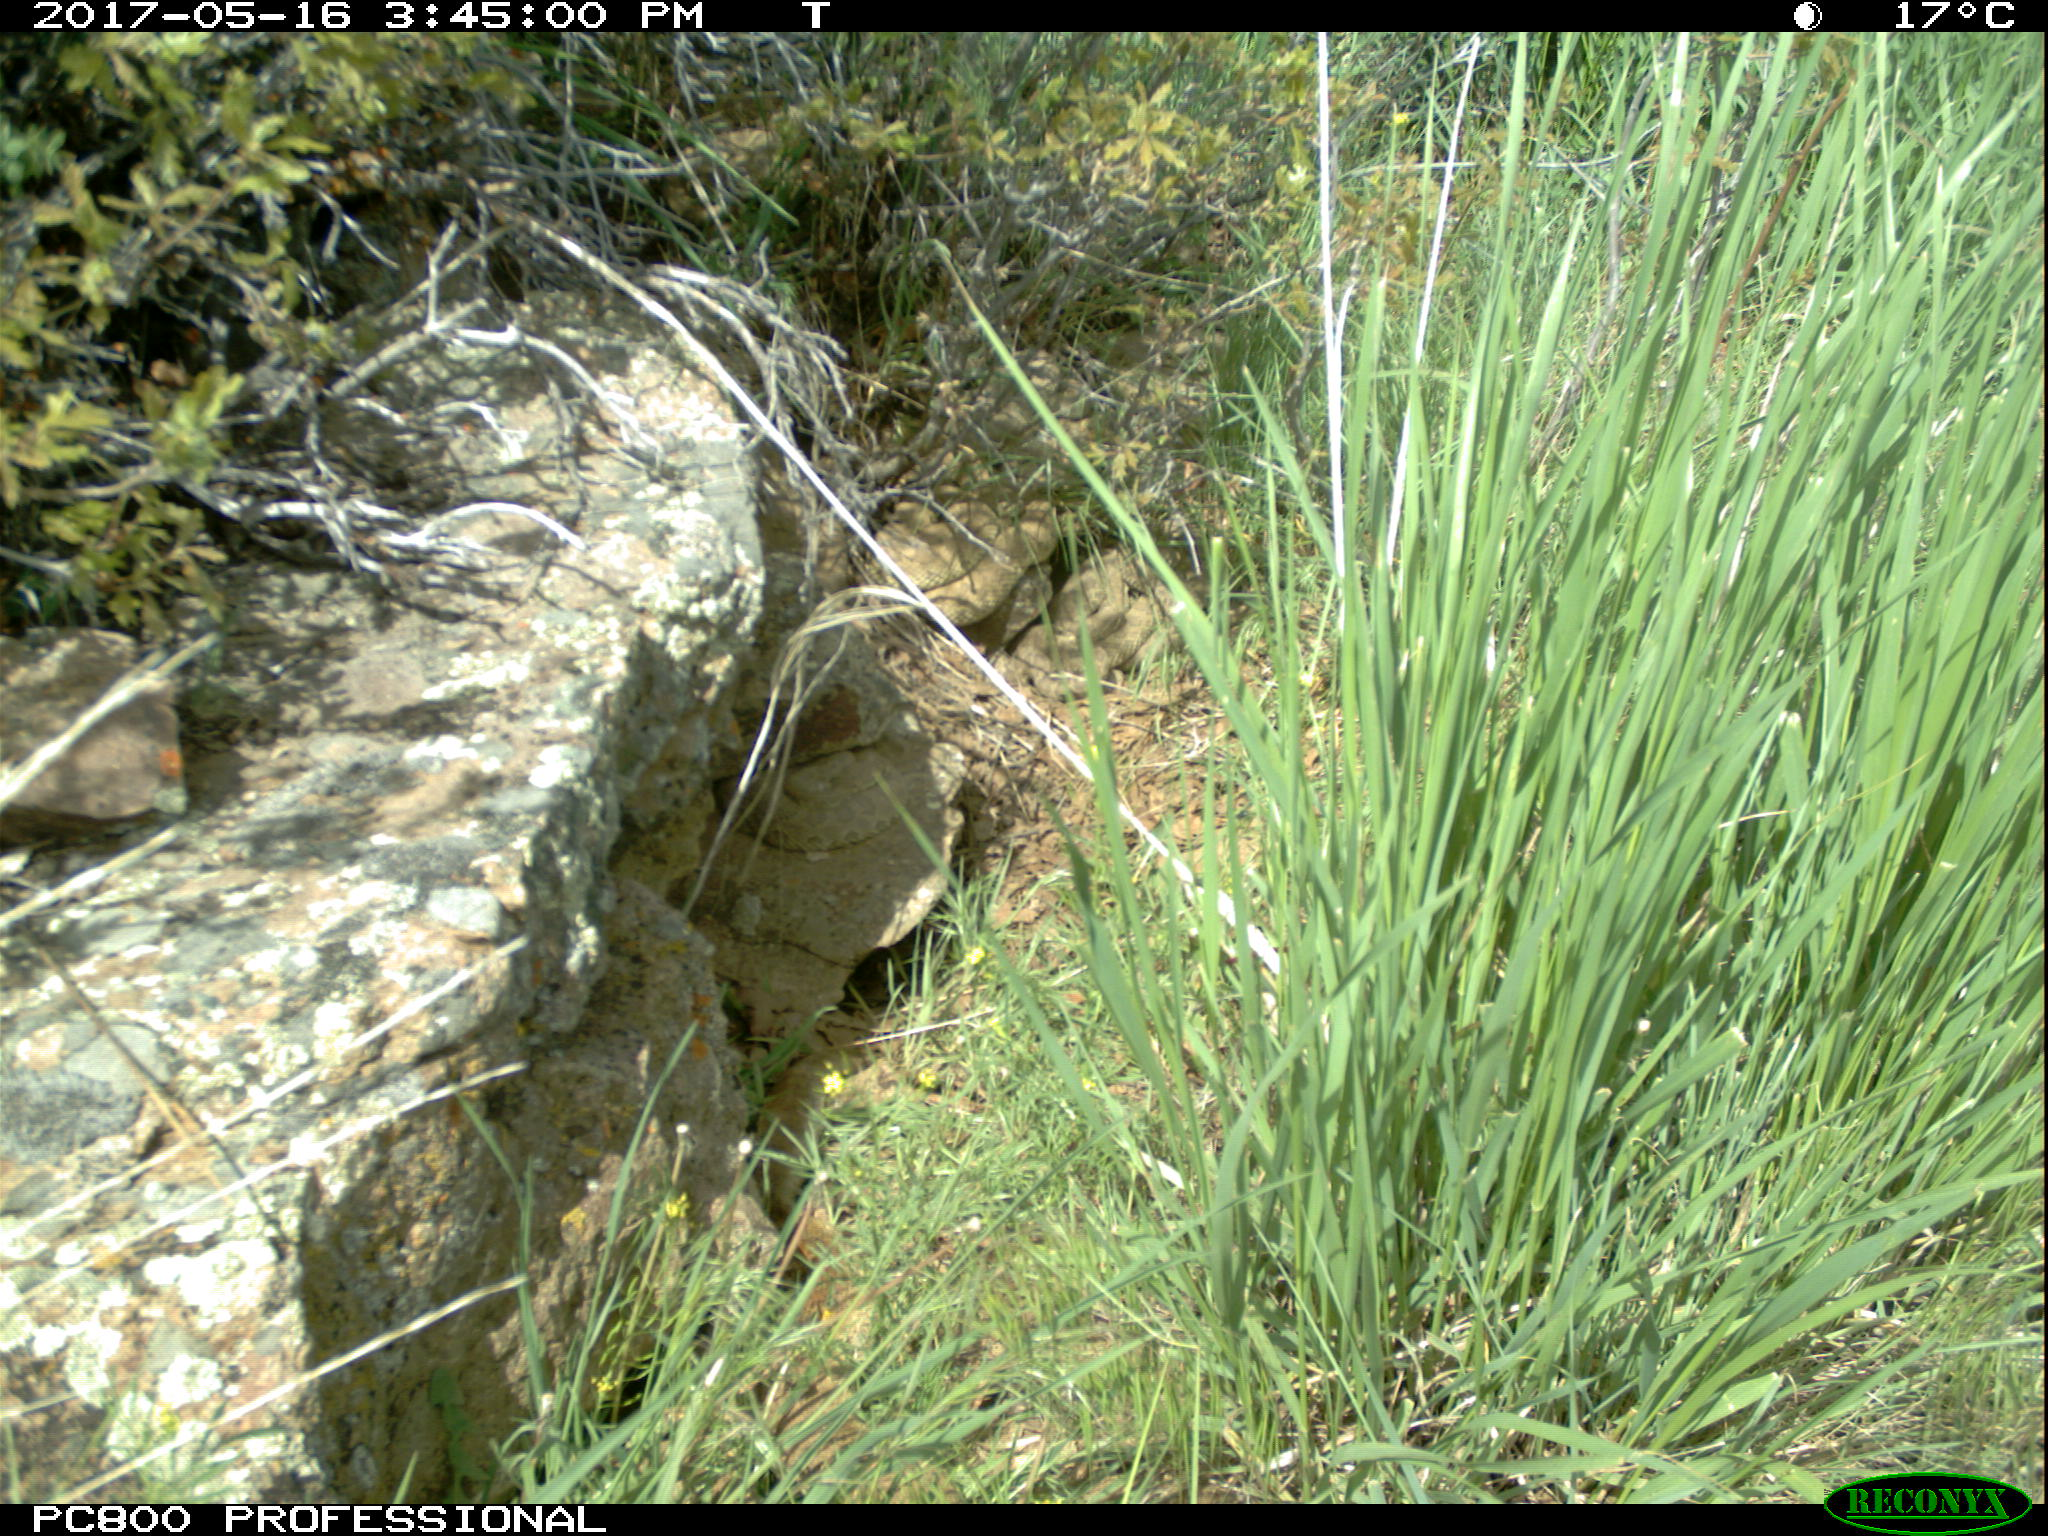snake: (772, 1054, 876, 1399), (743, 744, 961, 854), (876, 497, 1061, 618), (1018, 545, 1164, 674), (655, 131, 780, 218)
